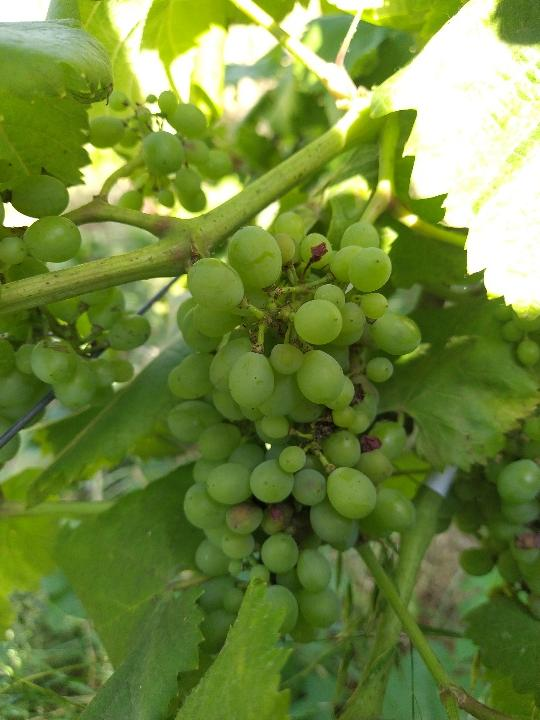grape: (160, 210, 422, 657)
